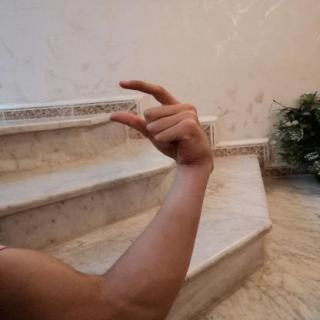DELL: (99, 73, 216, 168)
